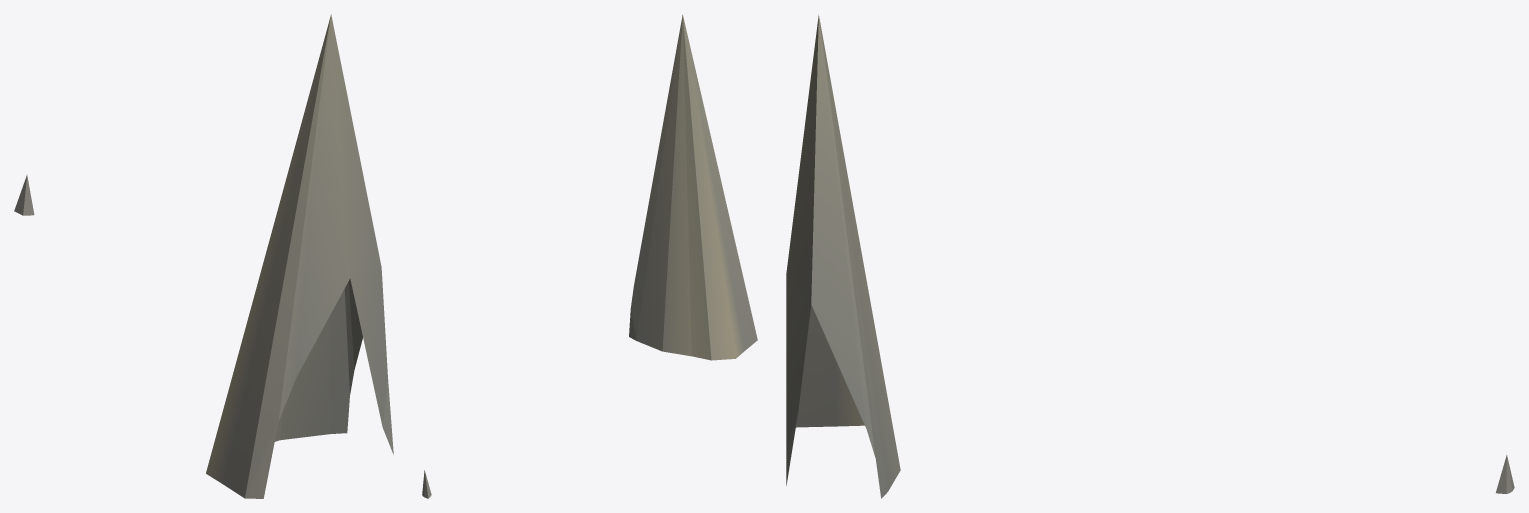
File: bisect-1-6-8.gltf
The picture shows the model from 3 angles, left to right: view 1: azimuth 30°, elevation 25°; view 2: azimuth 150°, elevation 25°; view 3: azimuth 270°, elevation 25°; orthographic projection. The views are drawn at different scales.
Visible parts, largest first — view 1: bisect-1-6-8; view 2: bisect-1-6-8; view 3: bisect-1-6-8.
Boxes of the visible parts, box(x1,y1,x2,y2) form: bisect-1-6-8: box(14, 14, 393, 498); bisect-1-6-8: box(422, 14, 757, 498); bisect-1-6-8: box(786, 14, 1514, 498).
Size of the model in its own units: 2.36 by 6.92 by 9.9.
